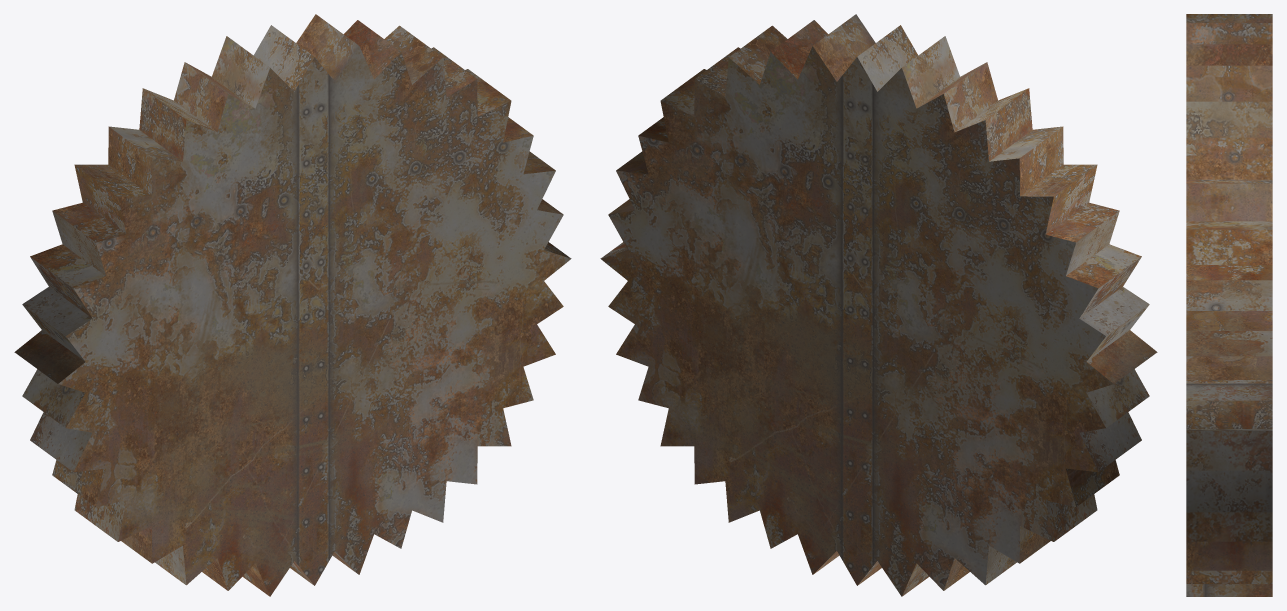
Rendered from flywheel.fbx.
The picture shows the model from 3 angles, left to right: view 1: azimuth 30°, elevation 25°; view 2: azimuth 150°, elevation 25°; view 3: azimuth 270°, elevation 25°; orthographic projection.
Parts seen in each view (by area): view 1: flyWheel; view 2: flyWheel; view 3: flyWheel.
Boxes of the visible parts, bbox=[...] form: flyWheel: bbox=[14, 14, 571, 596]; flyWheel: bbox=[600, 14, 1157, 596]; flyWheel: bbox=[1186, 14, 1272, 596].
Size of the model in its own units: 340 by 335 by 50.
